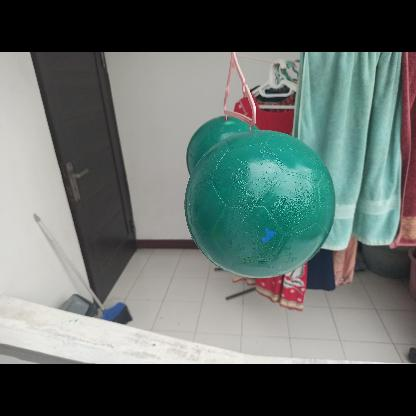green_ball: (183, 126, 333, 276)
